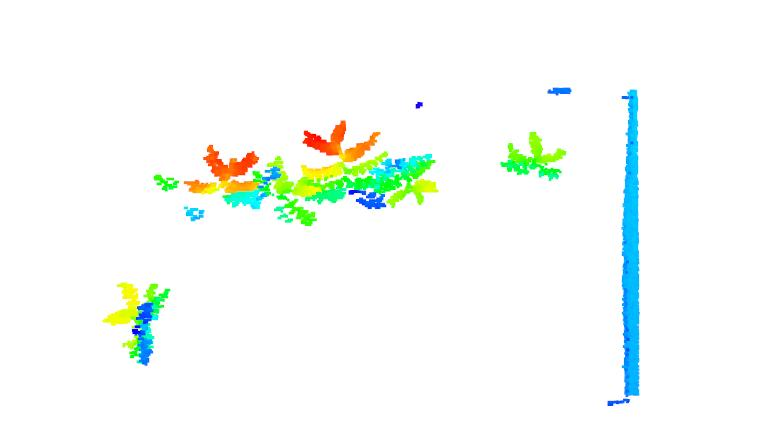chickpea: (152, 144, 264, 222), (290, 119, 386, 208), (98, 277, 171, 367), (254, 156, 316, 231), (370, 148, 446, 209), (502, 127, 567, 187)
